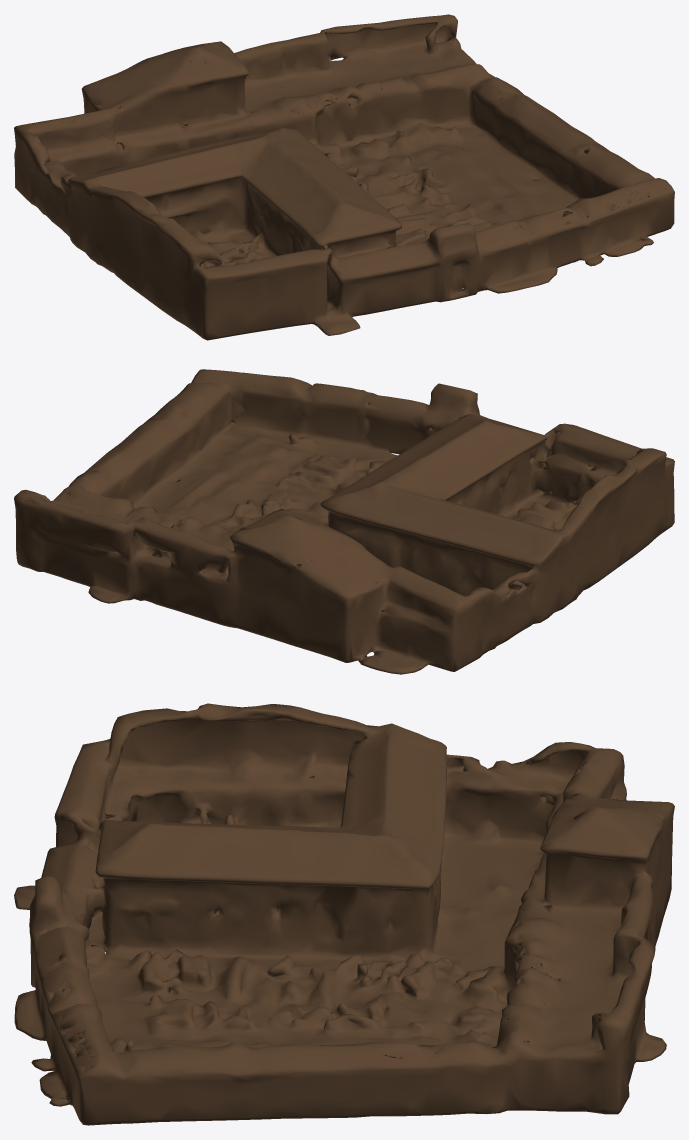
File: Queens_palace_colour_final.glb
3 views of the same model, one above another, from view 1: azimuth 30°, elevation 25°; view 2: azimuth 150°, elevation 25°; view 3: azimuth 270°, elevation 25° (orthographic). The views are drawn at different scales.
Visible parts, largest first — view 1: tmpfnt8bl2k.ply; view 2: tmpfnt8bl2k.ply; view 3: tmpfnt8bl2k.ply.
Boxes of the visible parts, x1=… form: tmpfnt8bl2k.ply: x1=14, y1=14, x2=674, y2=340; tmpfnt8bl2k.ply: x1=14, y1=369, x2=674, y2=674; tmpfnt8bl2k.ply: x1=14, y1=703, x2=674, y2=1125.
Bounding box in the file's own units: 1.95 × 0.4181 × 1.79.
